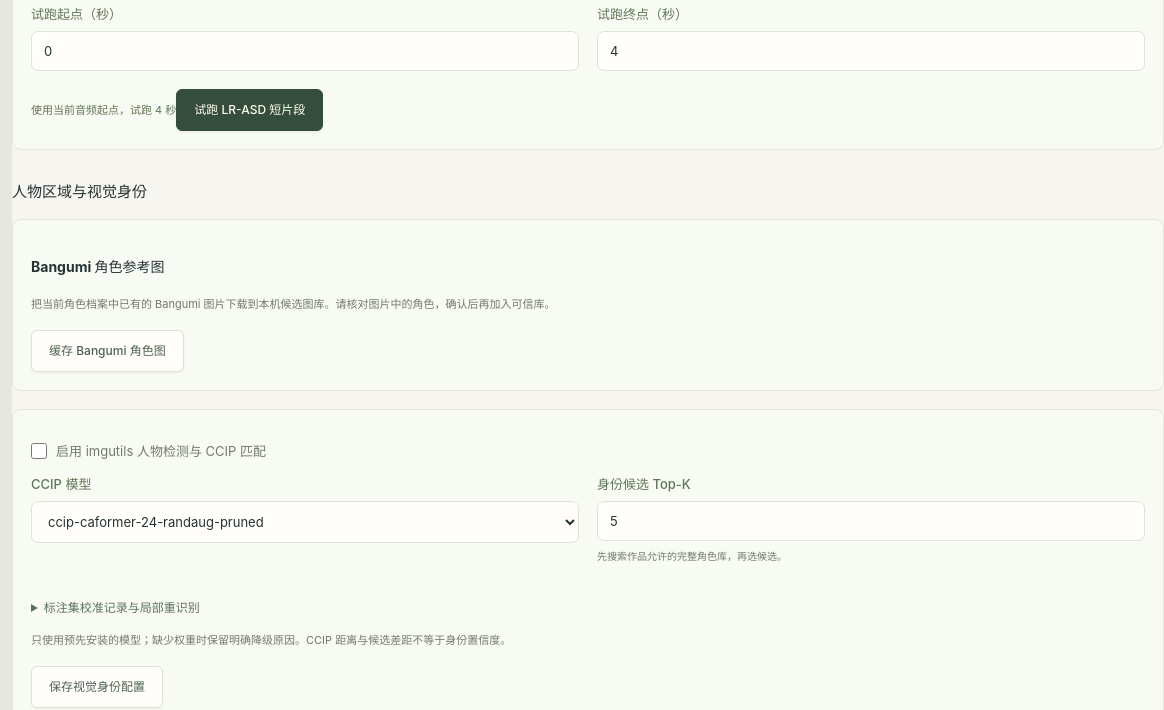
Scenario: LR-ASD short-preview workflow › caches only stored Bangumi images on explicit click and keeps downloaded references as candidates
(page scrolled)
Click the button "缓存 Bangumi 角色图": (107, 351) left=31, top=330, right=184, bottom=372
(page scrolled)
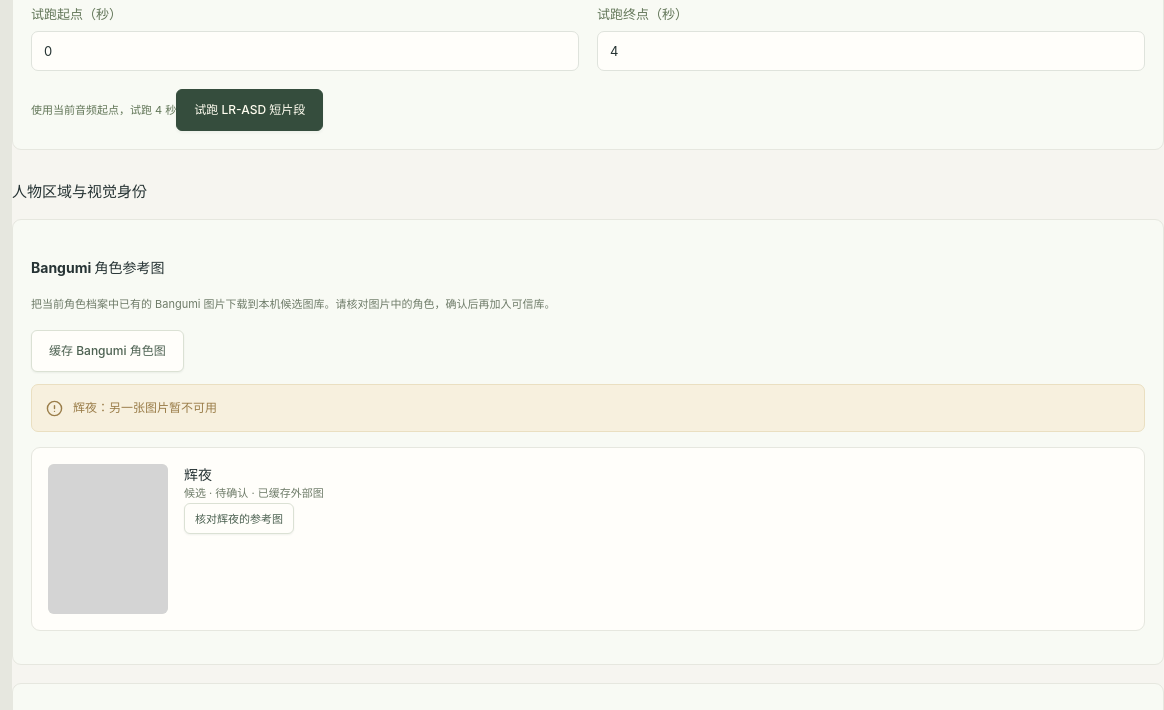
Now the text "候选 · 待确认 · 已缓存外部图" is shown, box left=184, top=486, right=324, bottom=500
Now the text "辉夜：另一张图片暂不可用" is shown, box left=73, top=397, right=217, bottom=419
